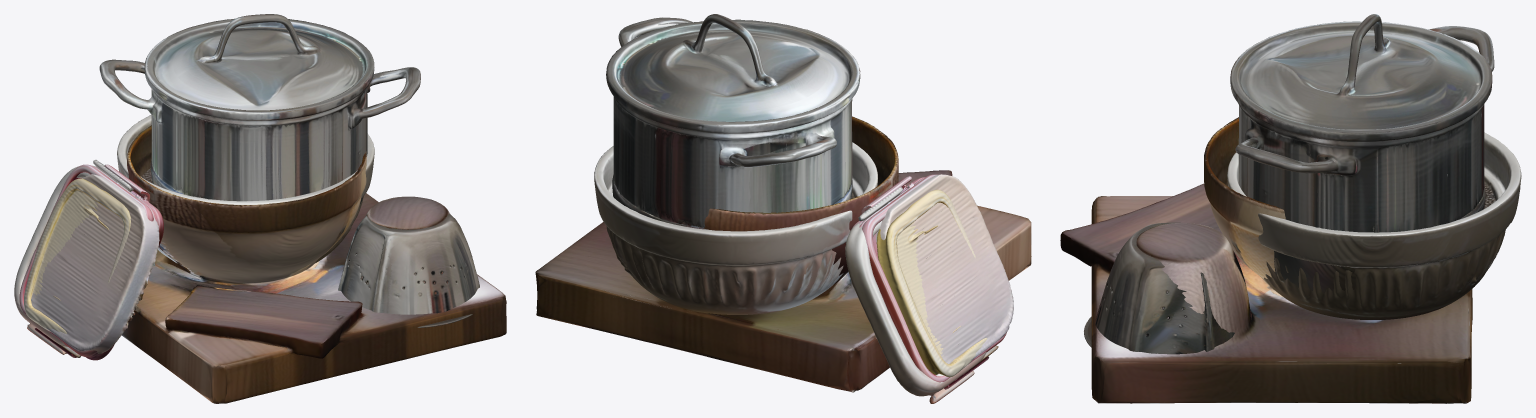
File: midi_textured.glb
The picture shows the model from 3 angles, left to right: view 1: azimuth 30°, elevation 25°; view 2: azimuth 150°, elevation 25°; view 3: azimuth 270°, elevation 25°; orthographic projection. The views are drawn at different scales.
Parts seen in each view (by area): view 1: geometry_0b02899b63cb7, geometry_0, geometry_0a19e7c6c15b2, geometry_018ec50953051, geometry_09757258938b0, geometry_0c1e161a4222a; view 2: geometry_0, geometry_0b02899b63cb7, geometry_09757258938b0, geometry_018ec50953051, geometry_0c1e161a4222a; view 3: geometry_0, geometry_0b02899b63cb7, geometry_09757258938b0, geometry_0a19e7c6c15b2.
Boxes of the visible parts, x1,y1,x2,y2 form: geometry_0b02899b63cb7: (31, 125, 506, 403); geometry_0: (99, 14, 420, 203); geometry_0a19e7c6c15b2: (338, 213, 479, 327); geometry_018ec50953051: (24, 178, 130, 333); geometry_09757258938b0: (14, 114, 374, 354); geometry_0c1e161a4222a: (19, 164, 163, 360); geometry_0: (606, 14, 860, 229); geometry_0b02899b63cb7: (535, 116, 1031, 392); geometry_09757258938b0: (594, 142, 986, 403); geometry_018ec50953051: (876, 189, 987, 377); geometry_0c1e161a4222a: (852, 174, 1006, 389); geometry_0: (1230, 14, 1494, 293); geometry_0b02899b63cb7: (1060, 117, 1472, 403); geometry_09757258938b0: (1227, 132, 1521, 319); geometry_0a19e7c6c15b2: (1084, 222, 1251, 354).
Size of the model in its own units: 1.91 by 1.46 by 1.88.
Materials: 6 (6 with a texture image).
